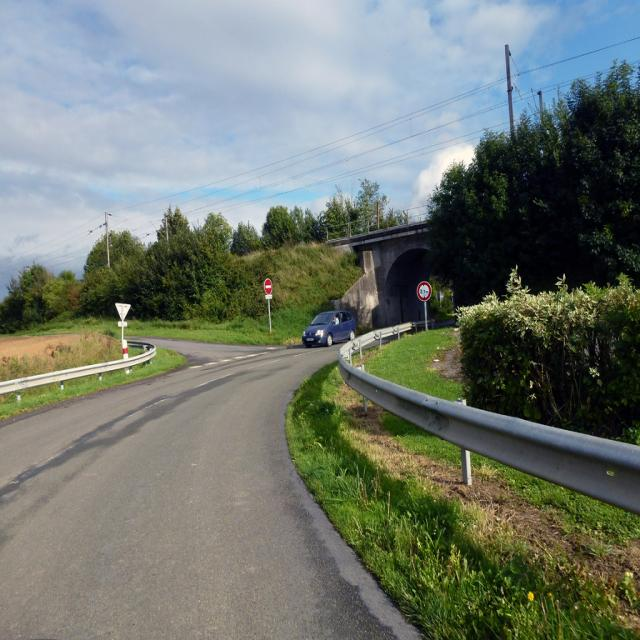car: (297, 298, 357, 352)
